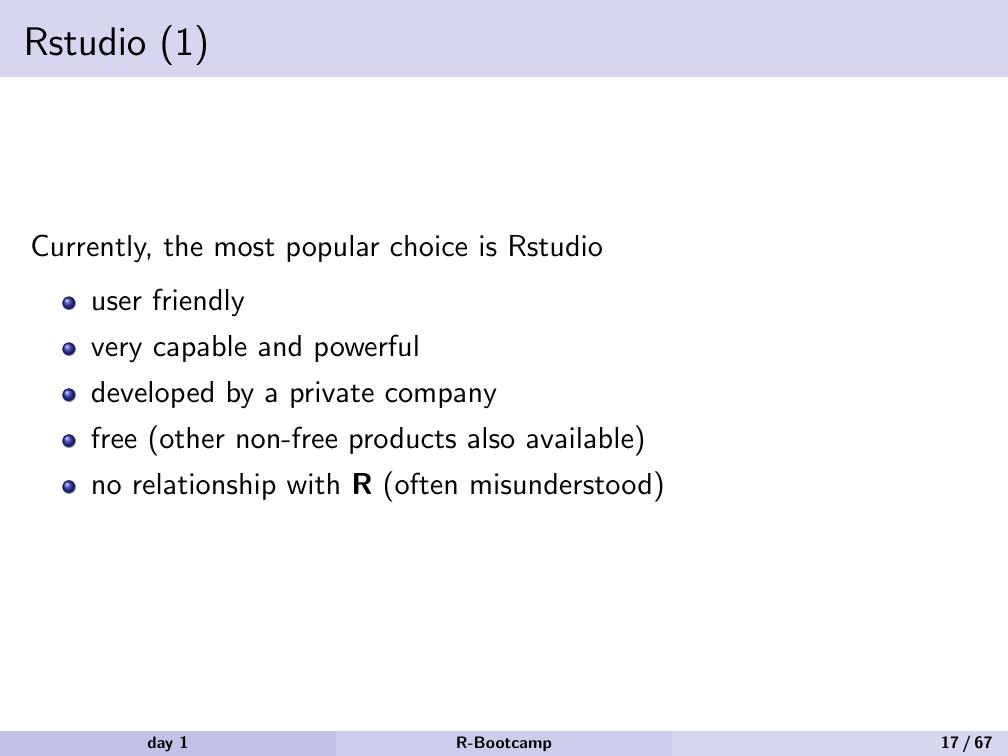Title: (15, 13, 231, 72)
